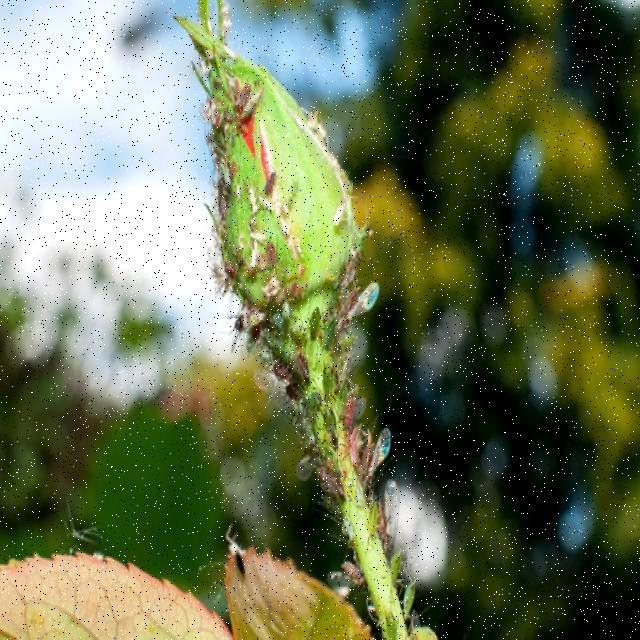Aphids: (307, 461, 352, 514), (279, 331, 315, 392), (294, 440, 324, 495), (267, 349, 293, 390)
